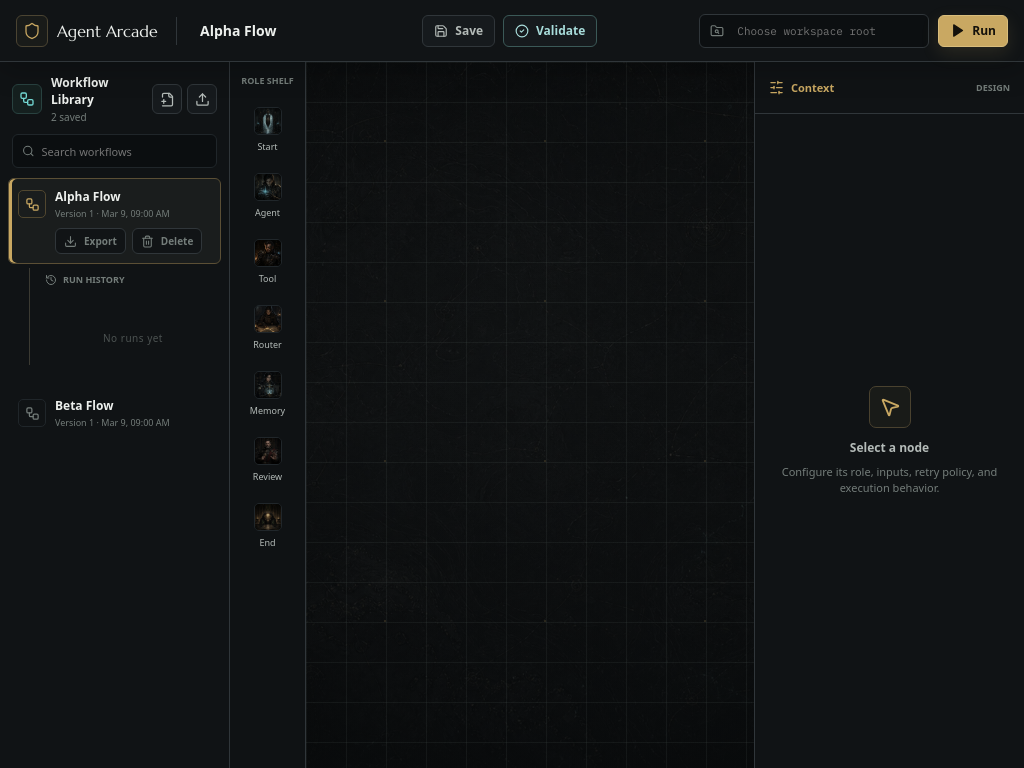
App — unified workspace shell › selecting another workflow in the sidebar loads it onto the canvas
Click the button with test id "workflow-card-wf-bbbb". click: (94,413)
box: [18,397,170,429]
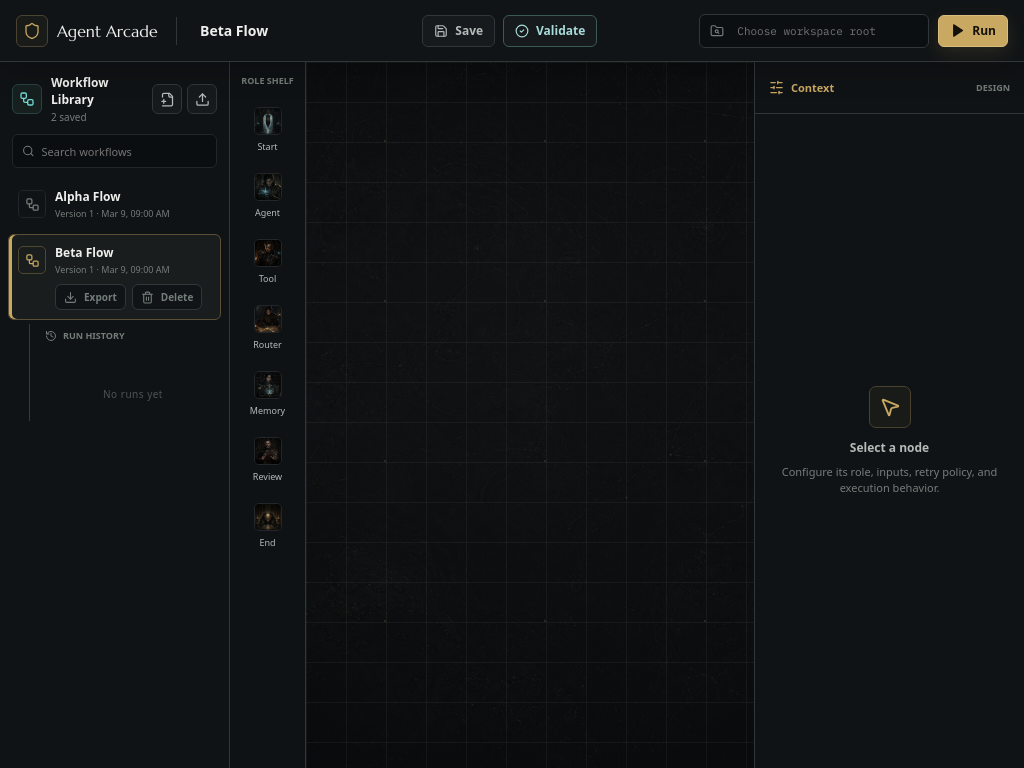
Result: the field with test id "workflow-name-input" holds "Beta Flow" at [189,14,414,48]
